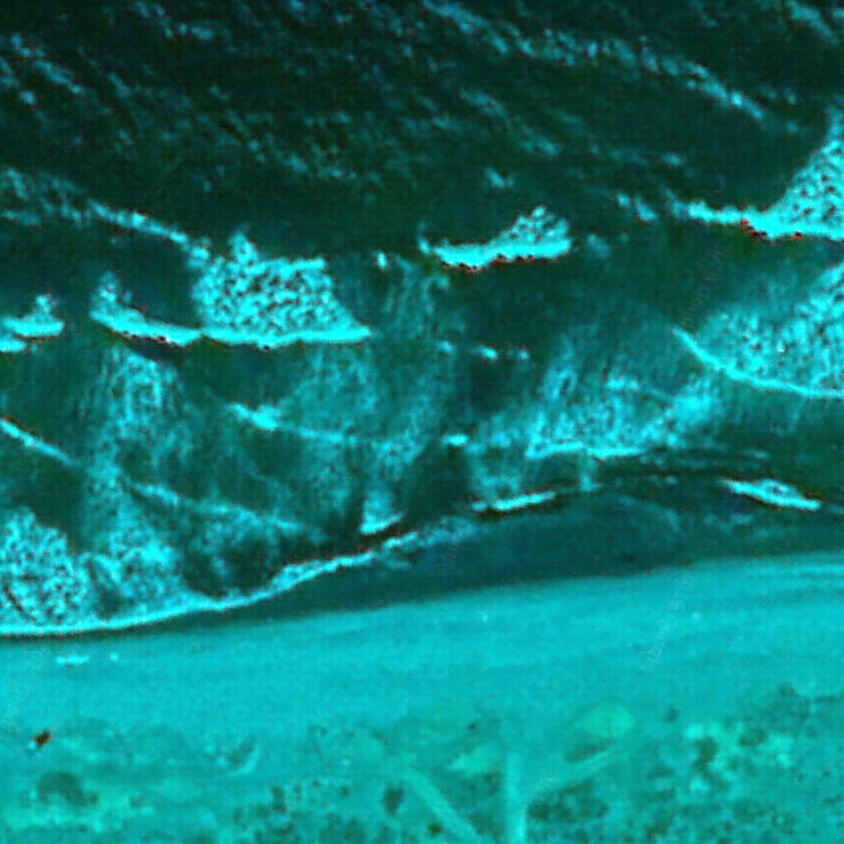rip_current: (359, 219, 541, 501)
